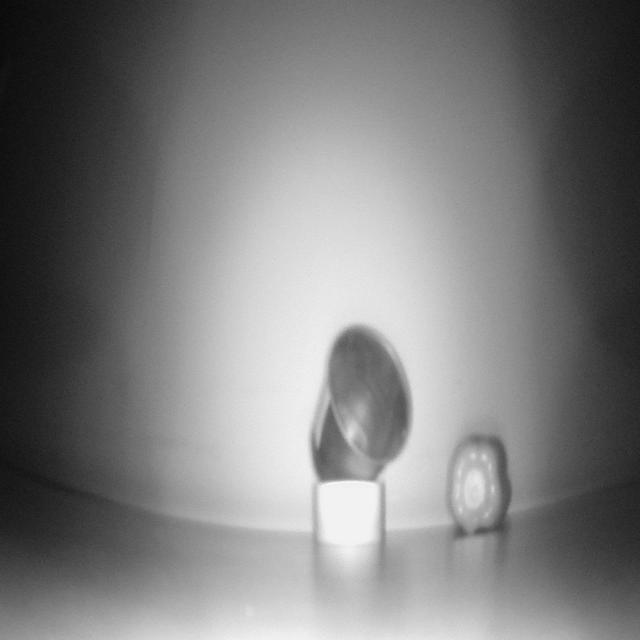targets: (307, 326, 413, 474), (445, 435, 513, 538), (314, 479, 386, 551)
